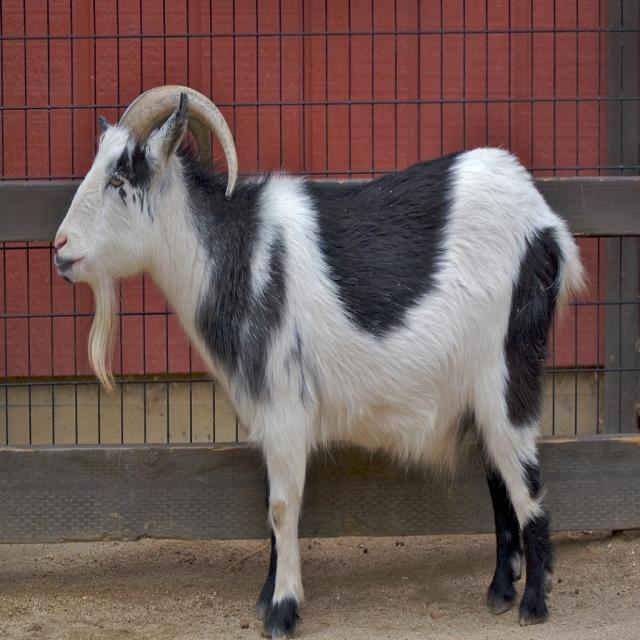Goat: (96, 81, 592, 640)
